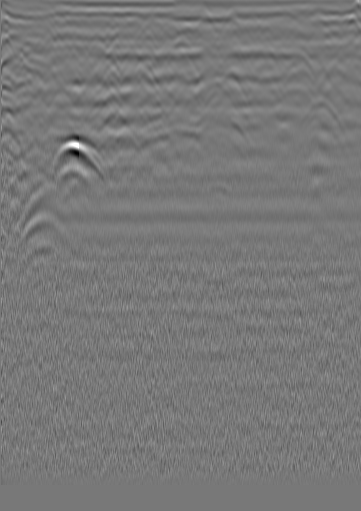상수: (310, 12, 330, 32)
오수: (12, 18, 32, 38)
우수: (137, 17, 157, 37)
